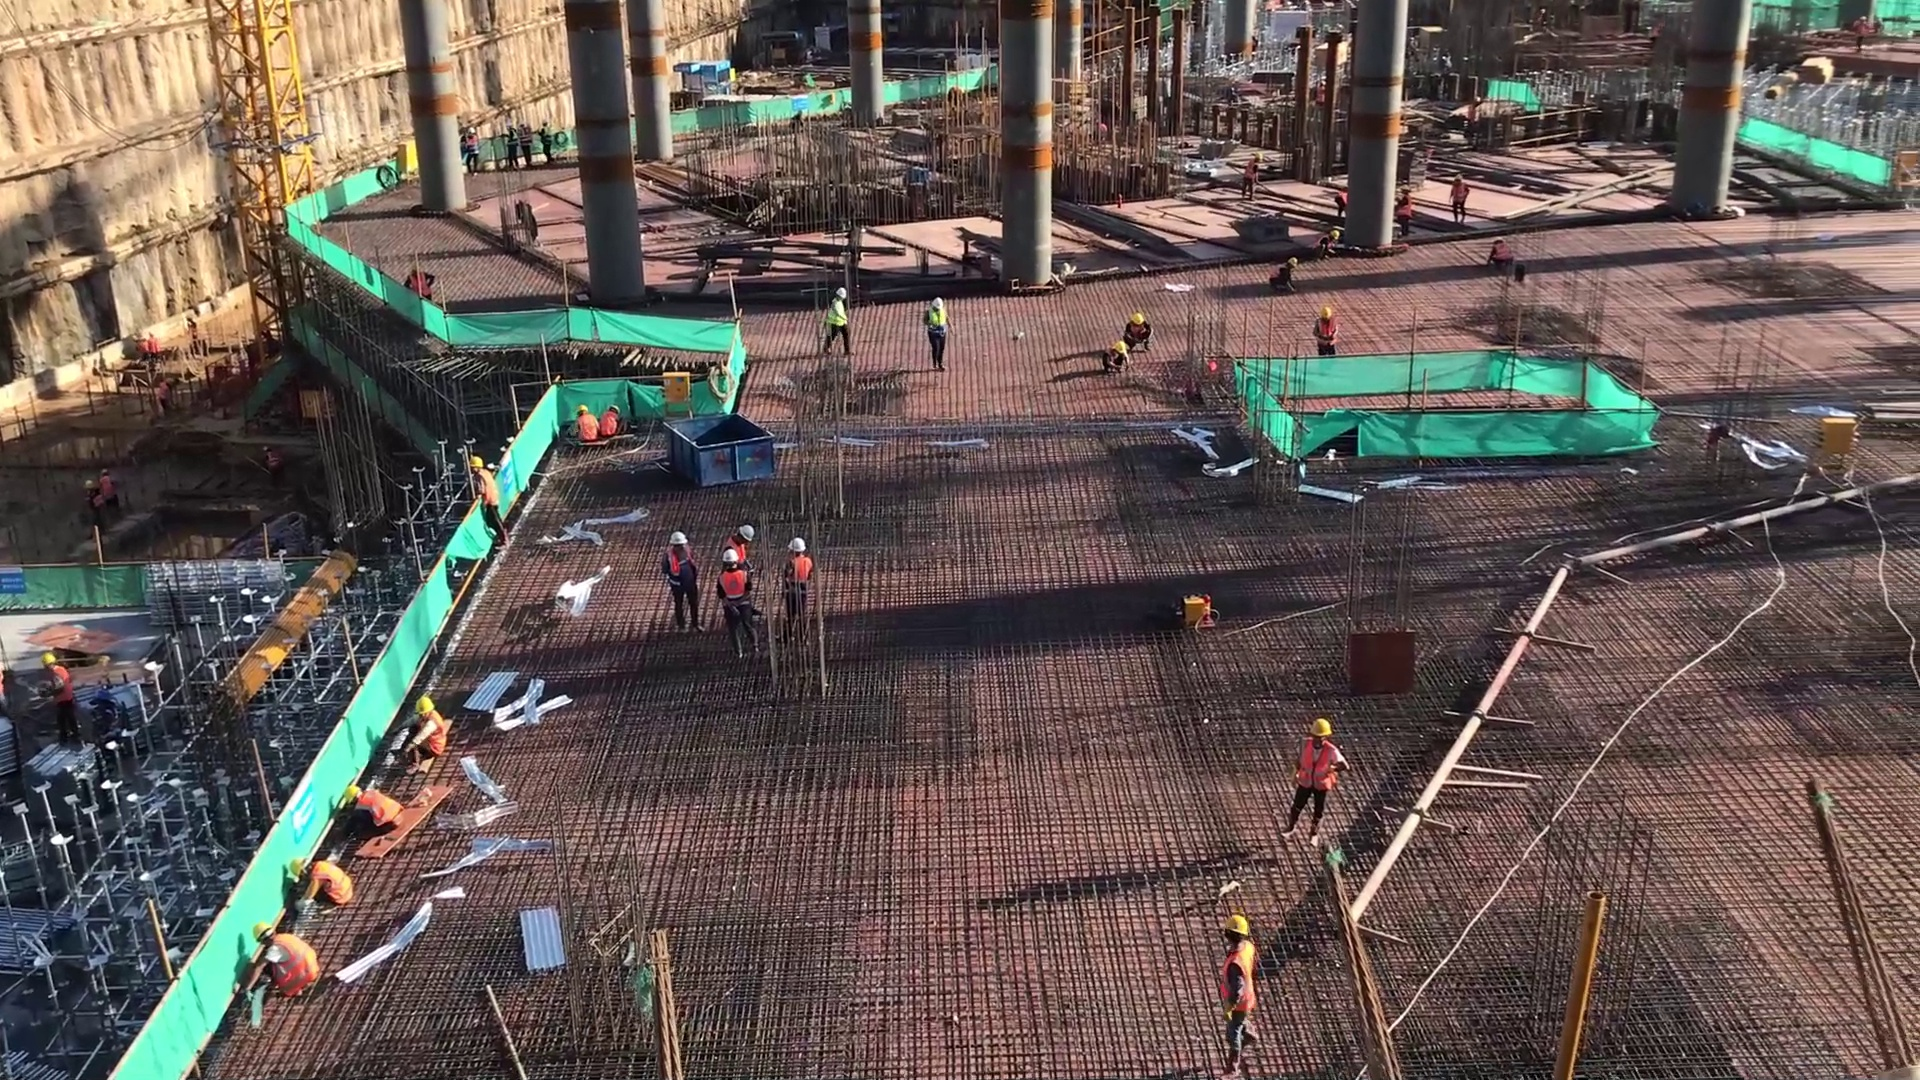ebox: (1806, 417, 1864, 489), (654, 369, 703, 430), (1179, 591, 1221, 634), (392, 138, 424, 189)
helmet: (1216, 912, 1252, 943), (1303, 713, 1336, 744), (284, 851, 310, 883), (244, 921, 275, 945), (409, 692, 438, 717), (339, 781, 363, 808), (659, 529, 691, 547), (781, 534, 809, 554), (34, 650, 61, 670), (467, 452, 488, 475), (735, 522, 756, 542), (1108, 338, 1130, 356), (719, 547, 743, 565), (929, 294, 947, 313), (1126, 312, 1148, 327), (1313, 303, 1334, 318), (575, 398, 591, 415), (836, 285, 851, 301), (1287, 253, 1299, 268), (1399, 183, 1413, 195), (607, 401, 622, 412), (1329, 228, 1341, 241), (1493, 233, 1506, 245), (1454, 173, 1466, 184)
hopper: (657, 409, 779, 495)
person: (1201, 906, 1280, 1080), (1278, 710, 1353, 844), (239, 917, 328, 1007), (706, 544, 771, 664), (383, 682, 454, 780), (652, 522, 710, 630), (463, 448, 515, 555), (33, 645, 85, 746), (774, 533, 819, 643), (281, 849, 358, 914), (329, 780, 408, 841), (813, 279, 861, 359), (916, 295, 961, 374), (1309, 301, 1345, 357), (1094, 336, 1139, 381), (563, 400, 602, 450), (723, 518, 757, 575), (1483, 227, 1517, 279), (1444, 172, 1476, 226), (1118, 310, 1155, 354), (1306, 227, 1344, 267), (596, 396, 625, 447), (1266, 252, 1303, 292), (1392, 180, 1415, 236)
scaffold: (139, 553, 296, 630)
vest: (261, 934, 323, 1000), (1216, 941, 1263, 1020), (1296, 738, 1339, 796), (303, 860, 354, 907), (709, 572, 754, 618), (356, 786, 404, 827), (780, 553, 814, 610), (661, 550, 699, 593), (418, 714, 449, 759), (475, 470, 504, 516), (49, 664, 74, 704), (567, 413, 596, 443), (928, 314, 955, 345), (827, 297, 850, 330), (724, 541, 754, 565), (1315, 318, 1339, 346), (597, 418, 621, 439), (1489, 243, 1512, 261), (1398, 195, 1415, 219), (1451, 181, 1466, 205)
